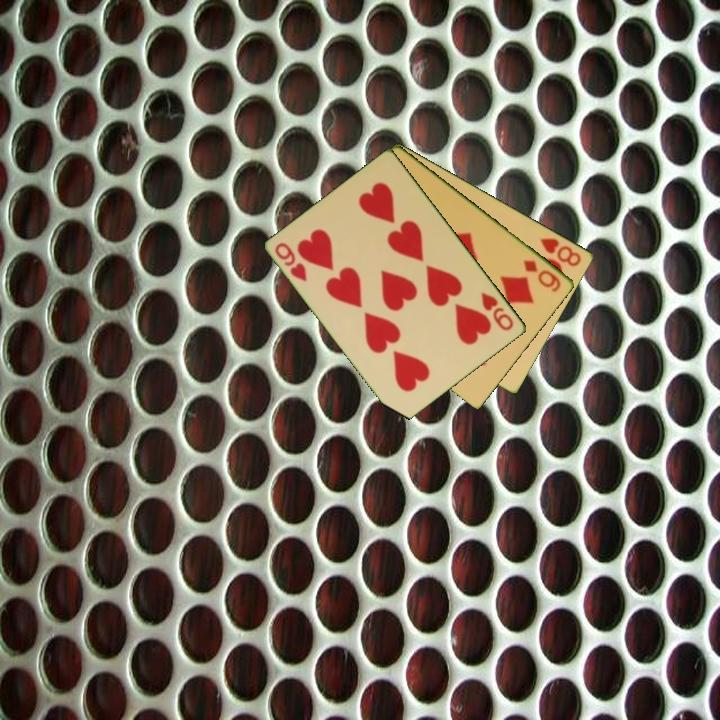6d: (520, 256, 564, 295)
8h: (537, 234, 585, 269)
9h: (478, 288, 517, 334), (271, 239, 310, 284)
